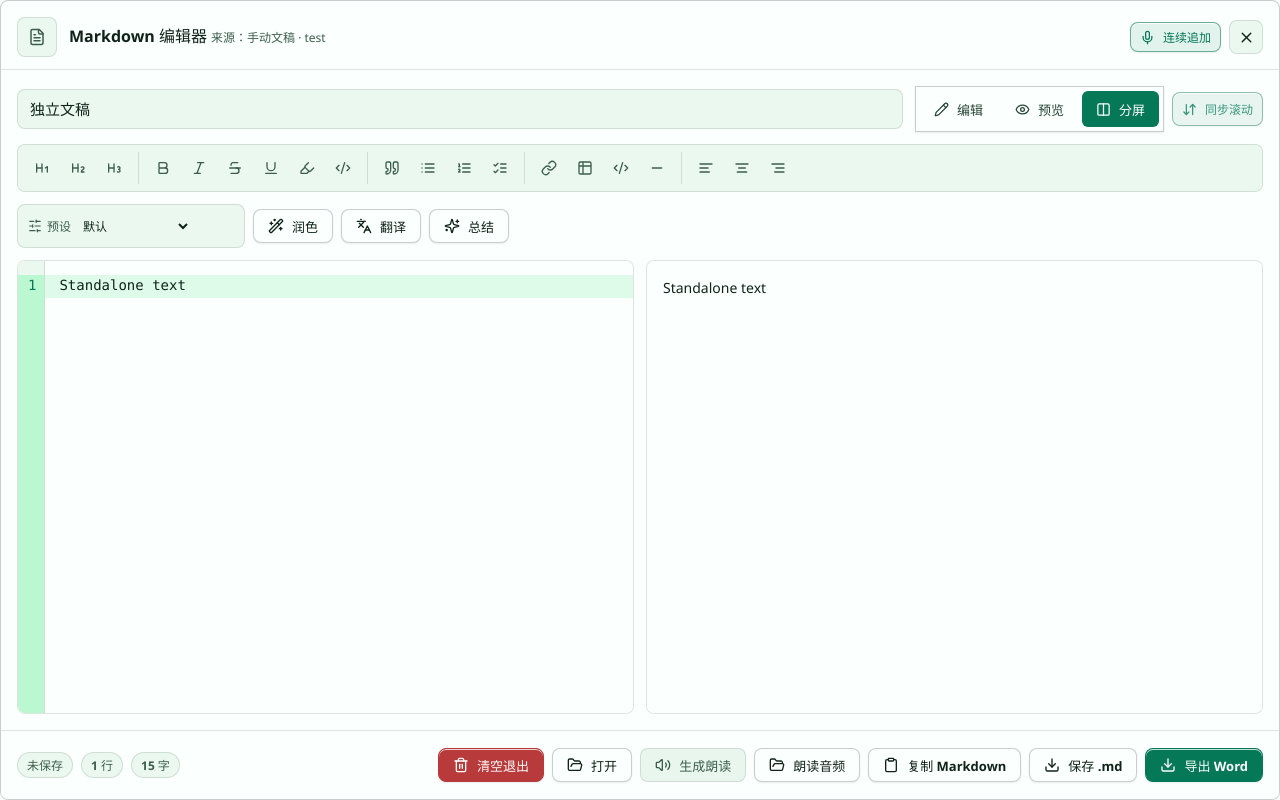
Test: standalone Markdown editor App entry › routes standalone AI through the typed Rust command and accepts its snapshot
This screenshot has width=1280, height=800.
Click the button "润色" at (293,226), box [253,209,333,243]
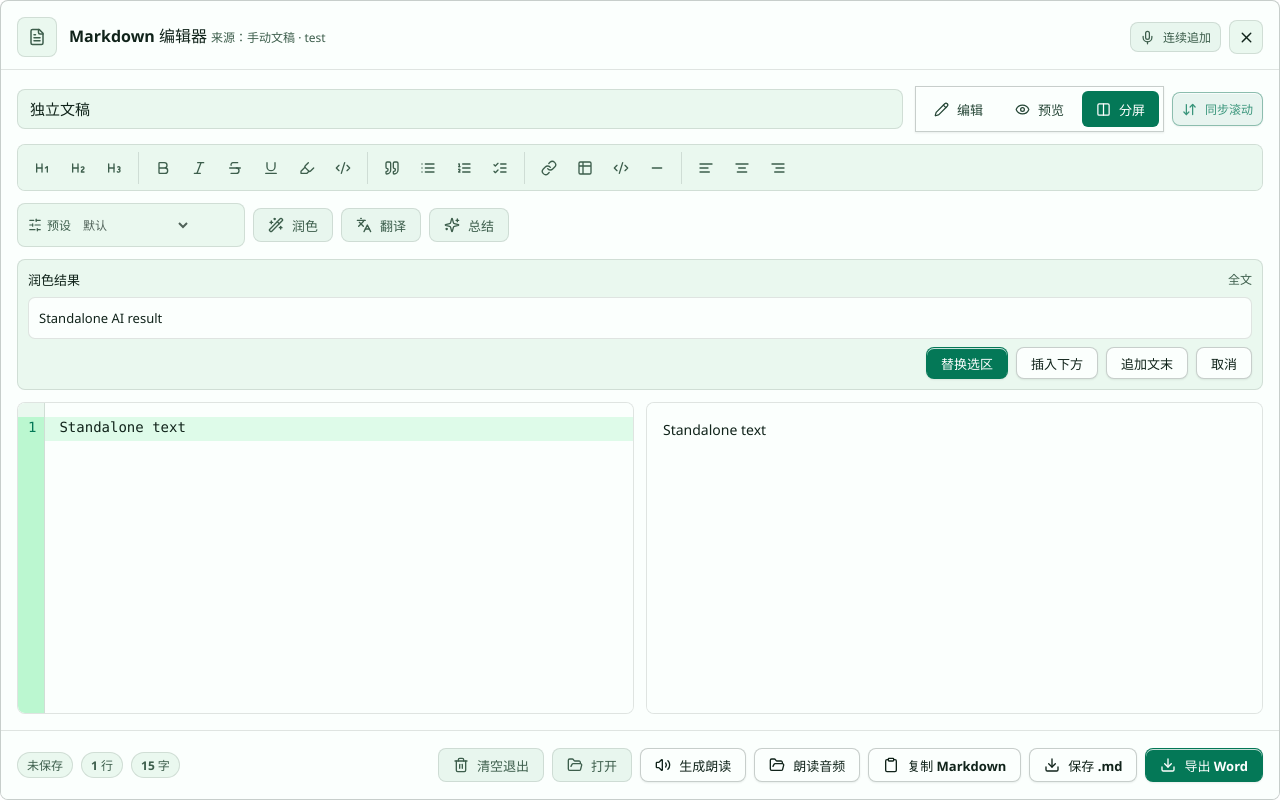
Result: the text "Standalone AI result" is shown at [28,297,1252,339]
